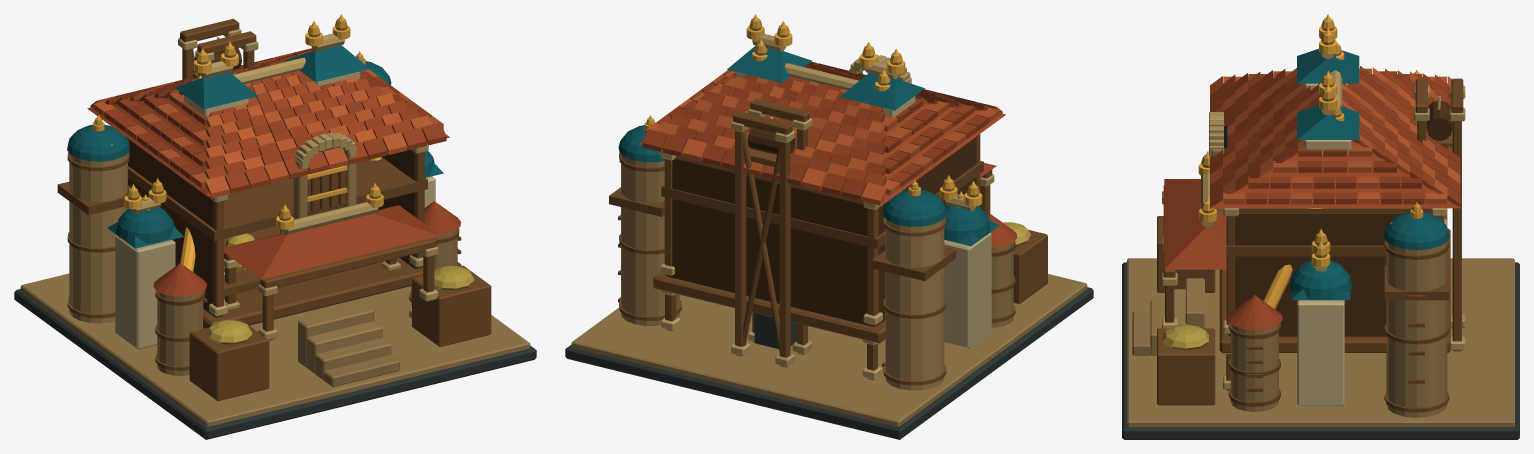
The picture shows the model from 3 angles, left to right: view 1: azimuth 30°, elevation 25°; view 2: azimuth 150°, elevation 25°; view 3: azimuth 270°, elevation 25°; orthographic projection. The views are drawn at different scales.
Visible parts, largest first — view 1: granary_14_structure, granary_14_metal; view 2: granary_14_structure, granary_14_metal; view 3: granary_14_structure, granary_14_metal.
Part boxes in pixels (x1,y1,x2,y2): granary_14_structure: [14, 18, 536, 439]; granary_14_metal: [92, 14, 383, 271]; granary_14_structure: [565, 18, 1093, 439]; granary_14_metal: [644, 14, 982, 207]; granary_14_structure: [1122, 18, 1519, 439]; granary_14_metal: [1198, 14, 1423, 309].
Size of the model in its own units: 5.6 by 4.78 by 5.6.
